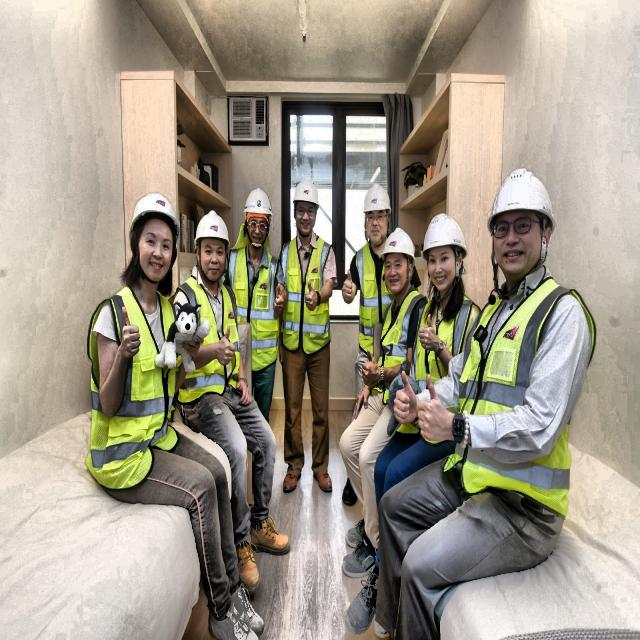safety_helmet: (128, 190, 182, 288), (486, 166, 556, 232), (421, 208, 468, 259), (192, 208, 232, 250), (360, 185, 394, 222), (386, 230, 419, 268), (241, 187, 274, 224), (291, 177, 322, 212)
safety_jacket: (472, 284, 593, 502), (74, 288, 180, 488), (416, 294, 481, 446), (178, 278, 242, 410), (231, 243, 284, 374), (278, 236, 332, 359), (281, 229, 334, 354), (357, 238, 410, 363), (376, 296, 418, 410)
